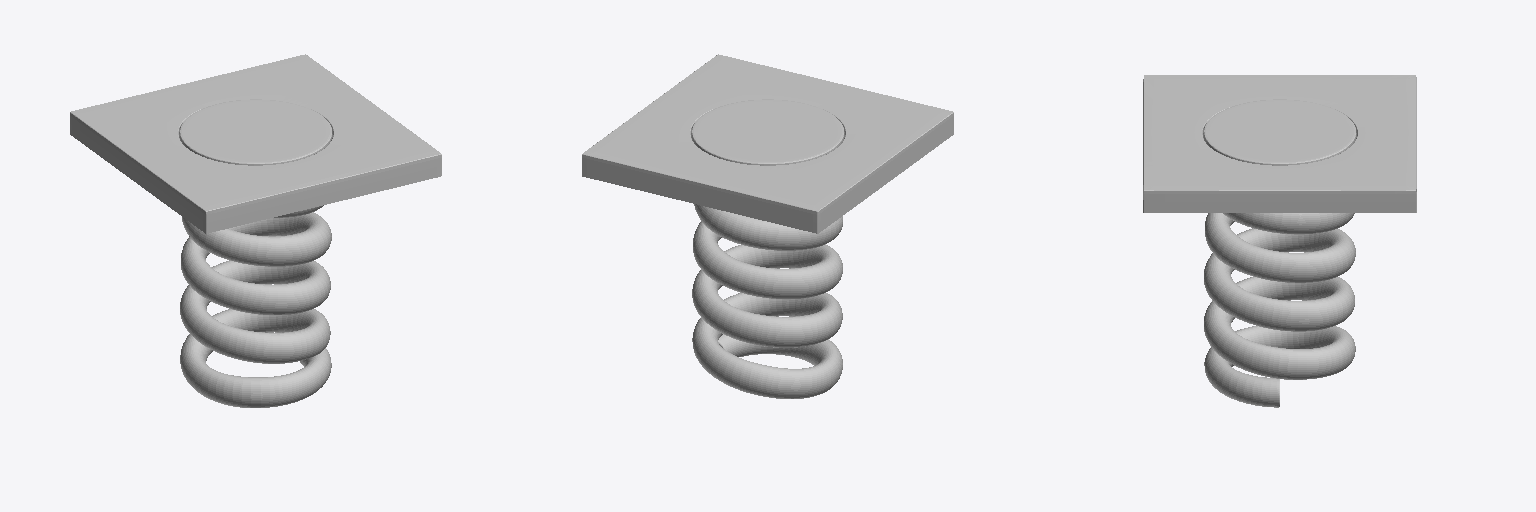
File: button_OBJ.obj
3 renders of one model, left to right at view 1: azimuth 30°, elevation 25°; view 2: azimuth 150°, elevation 25°; view 3: azimuth 270°, elevation 25°, orthographic.
Visible parts, largest first — view 1: Object001, default; view 2: Object001, default; view 3: Object001, default.
Boxes of the visible parts, x1,y1,x2,y2 form: Object001: [70, 54, 441, 233]; default: [180, 205, 331, 407]; Object001: [582, 54, 953, 233]; default: [692, 204, 842, 398]; Object001: [1143, 75, 1416, 212]; default: [1204, 213, 1355, 407].
Size of the model in its own units: 35.59 by 35.86 by 35.59.